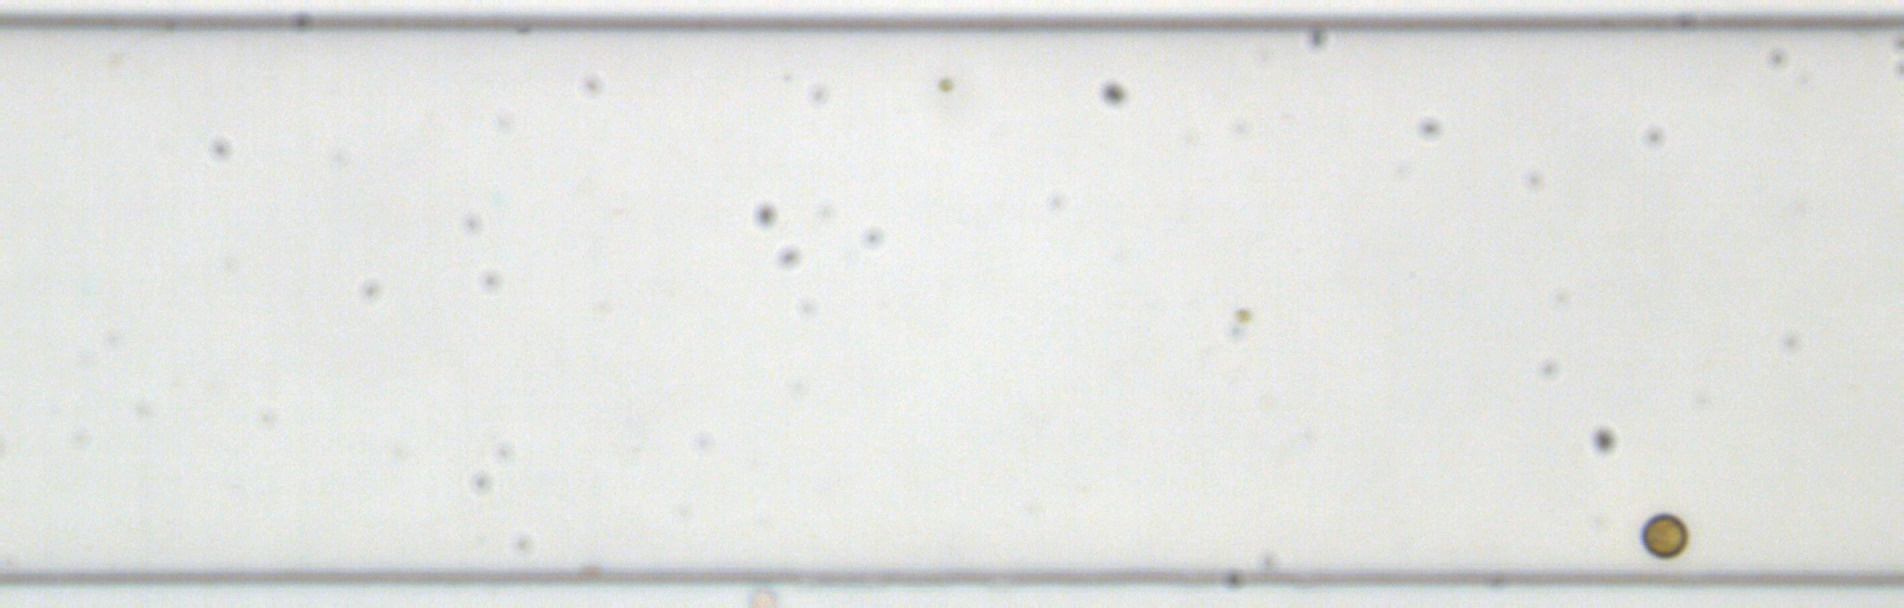Chlorella: (935, 74, 954, 95), (1232, 305, 1251, 323)
Effrenium: (1634, 508, 1691, 562)
